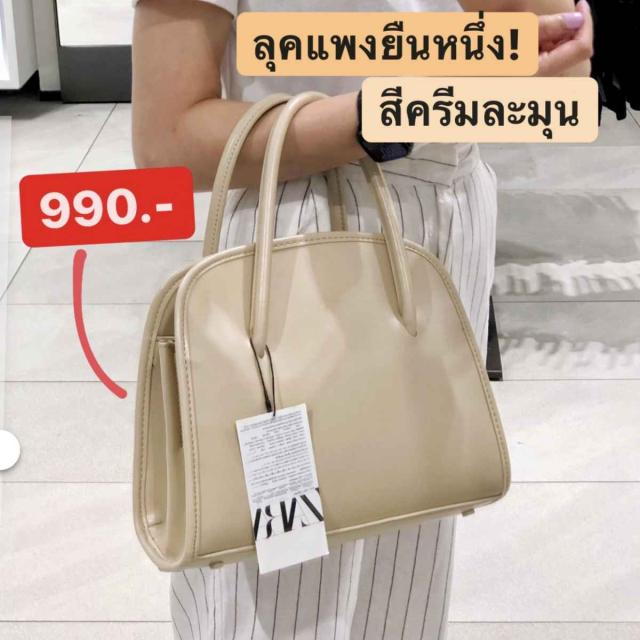handbag: (118, 230, 510, 586)
